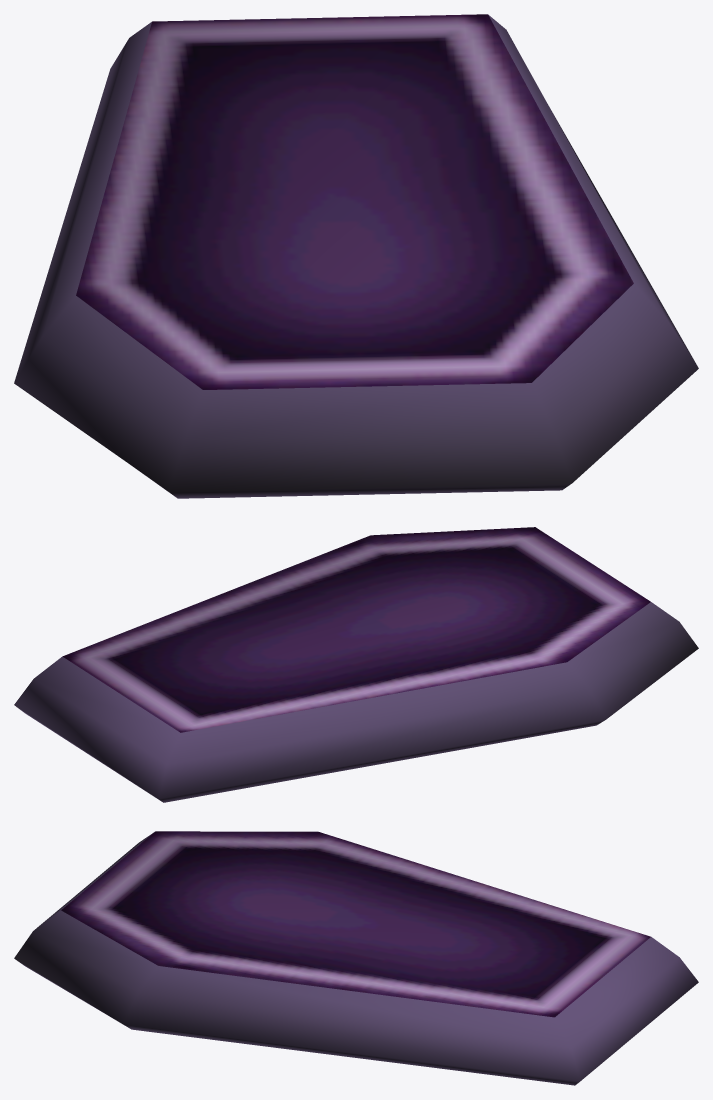
The model's file is eoce.hrc.gltf.
The picture shows the model from 3 angles, top to bottom: view 1: azimuth 30°, elevation 25°; view 2: azimuth 150°, elevation 25°; view 3: azimuth 270°, elevation 25°; orthographic projection. The views are drawn at different scales.
Parts seen in each view (by area): view 1: eoceBone0_null; view 2: eoceBone0_null; view 3: eoceBone0_null.
Part boxes in pixels (x1=…): eoceBone0_null: x1=14, y1=14, x2=698, y2=498; eoceBone0_null: x1=14, y1=527, x2=698, y2=802; eoceBone0_null: x1=14, y1=831, x2=698, y2=1085.
Size of the model in its own units: 42.72 by 5.03 by 55.94.
Materials: 2 (1 with a texture image).
